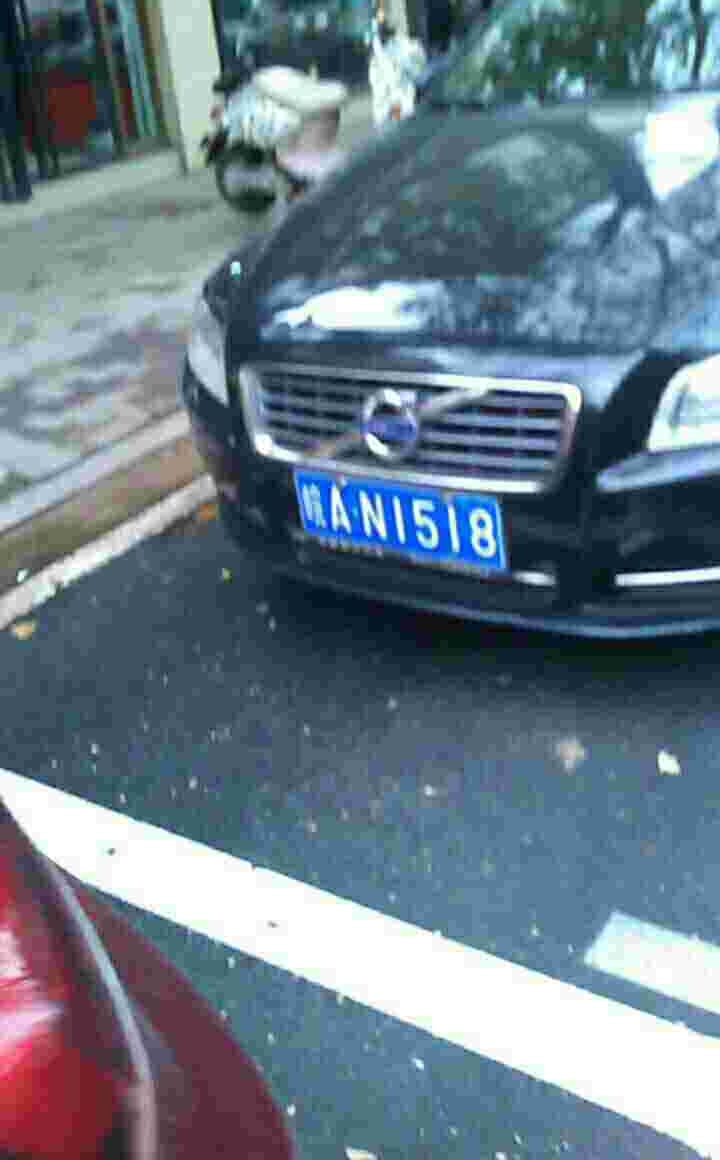license_plate: (297, 474, 506, 571)
